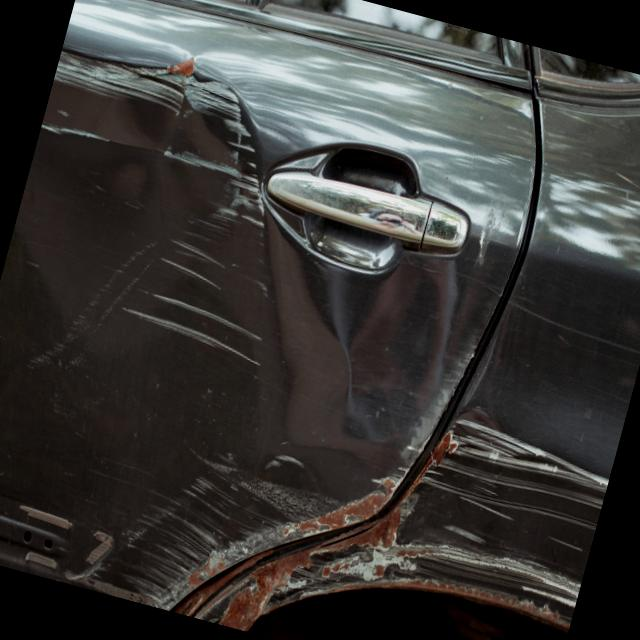Rayure: (72, 414, 382, 640), (403, 402, 617, 633), (30, 45, 293, 226), (107, 206, 303, 397)
